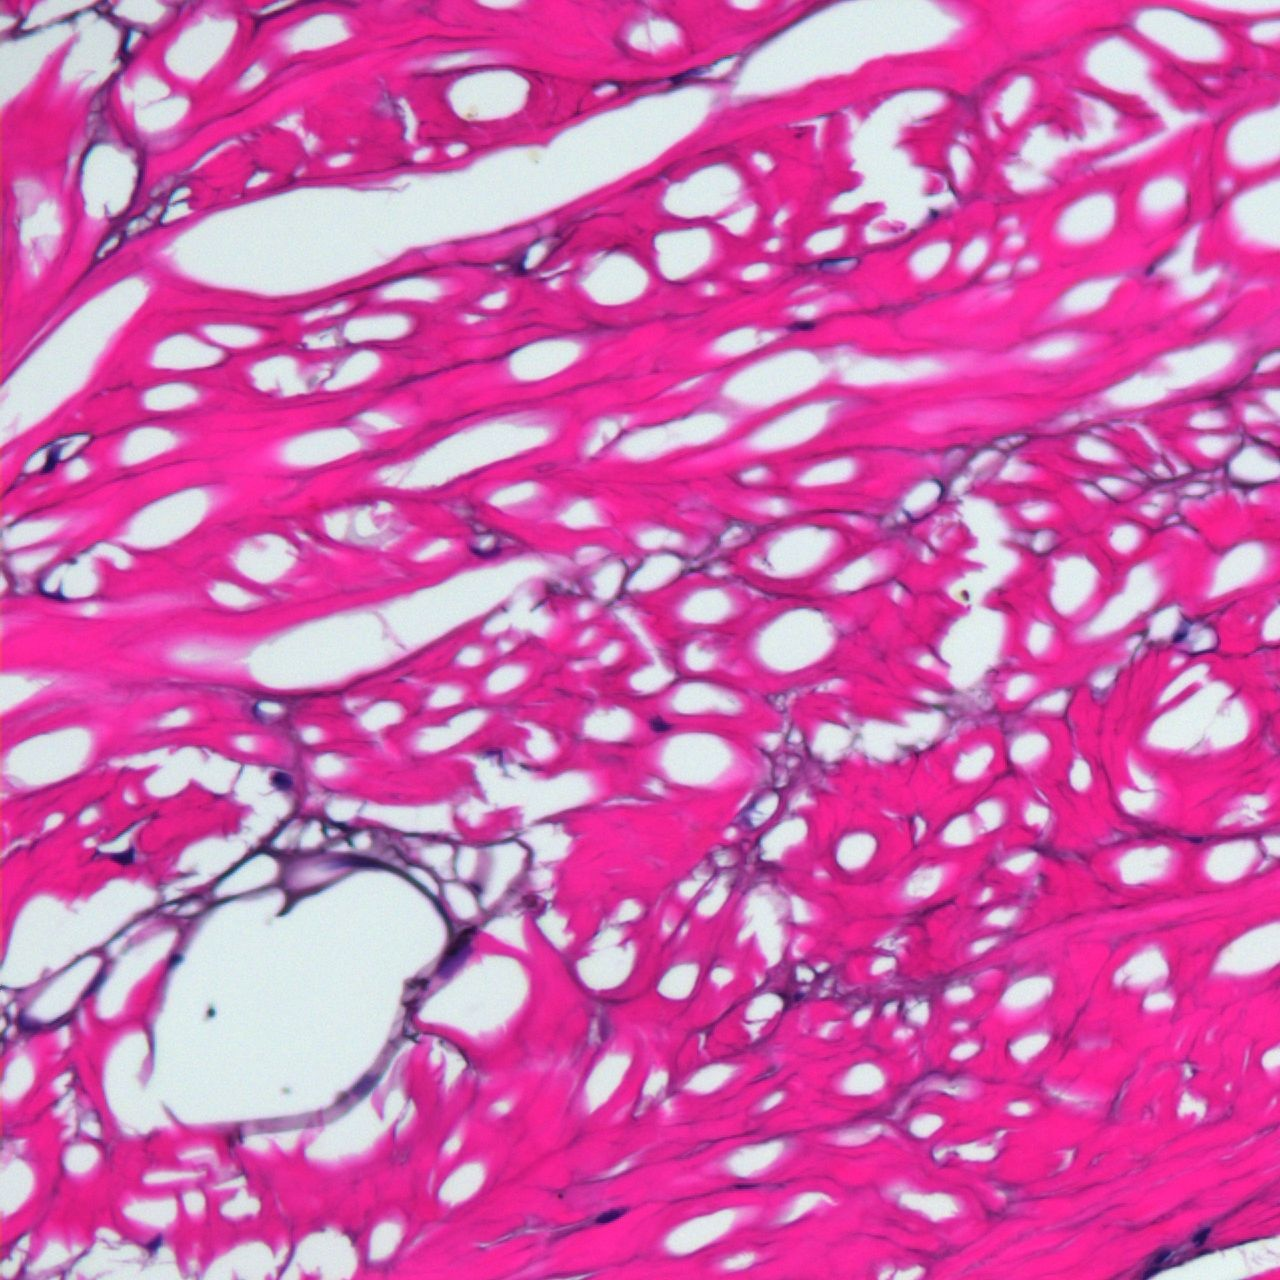nucleus-HE: (434, 922, 481, 978), (109, 846, 138, 871), (595, 1206, 621, 1226), (1191, 1224, 1211, 1246), (271, 770, 292, 788), (1170, 628, 1189, 645), (166, 952, 181, 967), (652, 719, 668, 731), (794, 992, 804, 1000), (799, 322, 810, 331)
